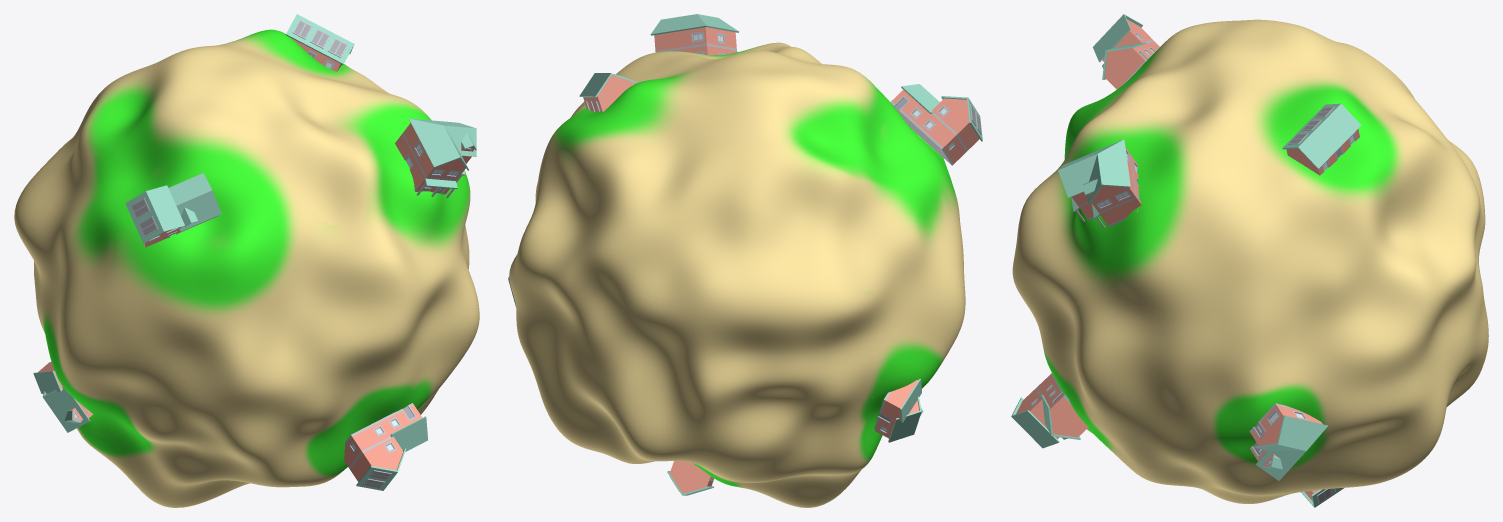
File: floating_island.glb
The picture shows the model from 3 angles, left to right: view 1: azimuth 30°, elevation 25°; view 2: azimuth 150°, elevation 25°; view 3: azimuth 270°, elevation 25°; orthographic projection. The views are drawn at different scales.
Visible parts, largest first — view 1: FloatingIsland0, house_type02, house_type03.001, house_type03, house_type01.001, house_type04; view 2: FloatingIsland0, house_type03, house_type02, house_type04, house_type01.001, house_type01; view 3: FloatingIsland0, house_type02, house_type05, house_type01.001, house_type03.001, house_type03.
Boxes of the visible parts, x1,y1,x2,y2 form: FloatingIsland0: (14,29,479,507); house_type02: (395,118,476,197); house_type03.001: (344,403,427,490); house_type03: (125,173,221,247); house_type01.001: (285,14,354,71); house_type04: (33,362,93,432); FloatingIsland0: (509,42,965,507); house_type03: (890,84,982,165); house_type02: (650,14,738,55); house_type04: (874,378,923,442); house_type01.001: (579,73,636,112); house_type01: (667,461,714,495); FloatingIsland0: (1012,19,1488,503); house_type02: (1058,139,1141,228); house_type05: (1249,403,1327,480); house_type01.001: (1282,103,1361,175); house_type03.001: (1011,373,1088,448); house_type03: (1093,14,1159,89).
Bounding box in the file's own units: 35.56 × 34.57 × 33.21.
Materials: 26 (1 with a texture image).
